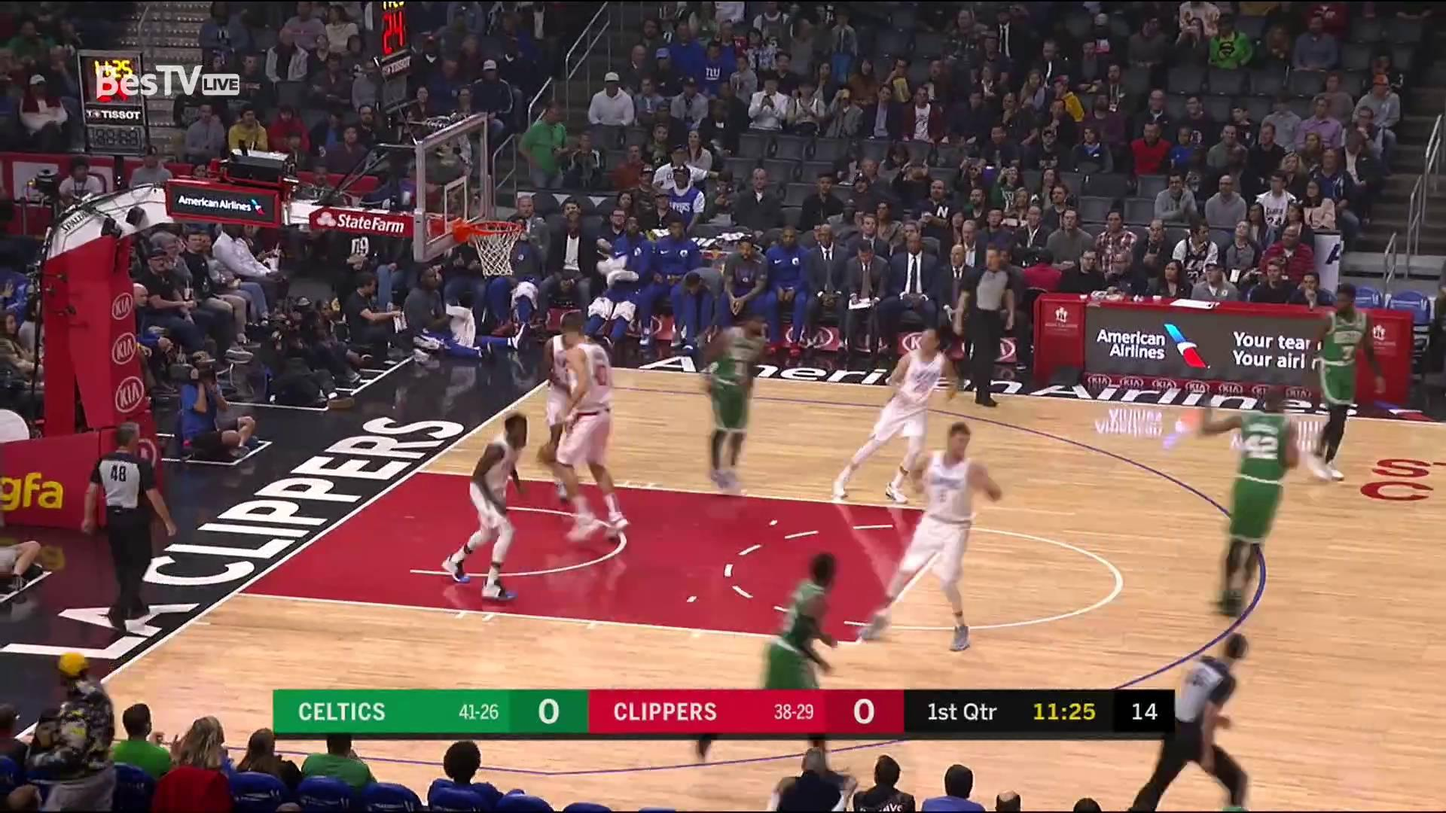basketball: (609, 160, 642, 193)
